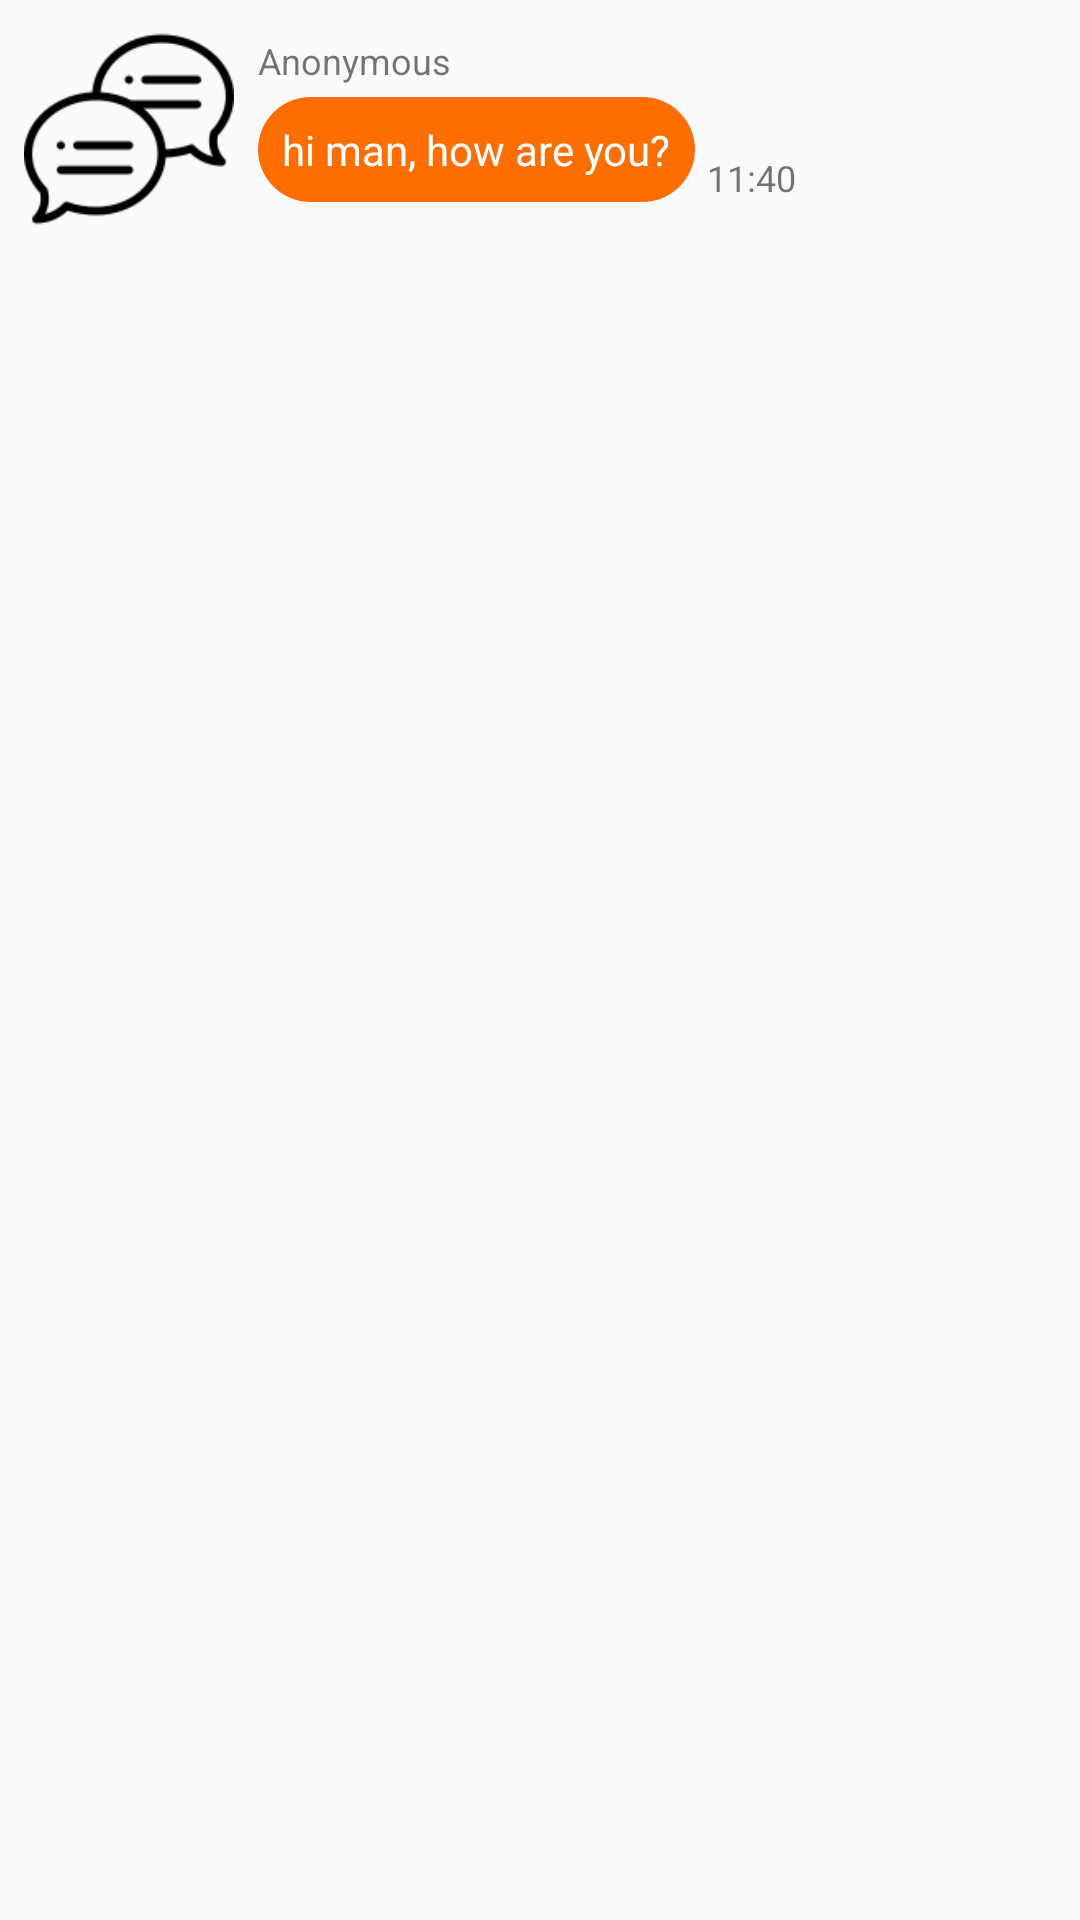

Locate icon controls on the screen. Image size 1080 × 1920, boxes as (x1, y1, x2, y2).
speaking: (24, 33, 234, 225)
